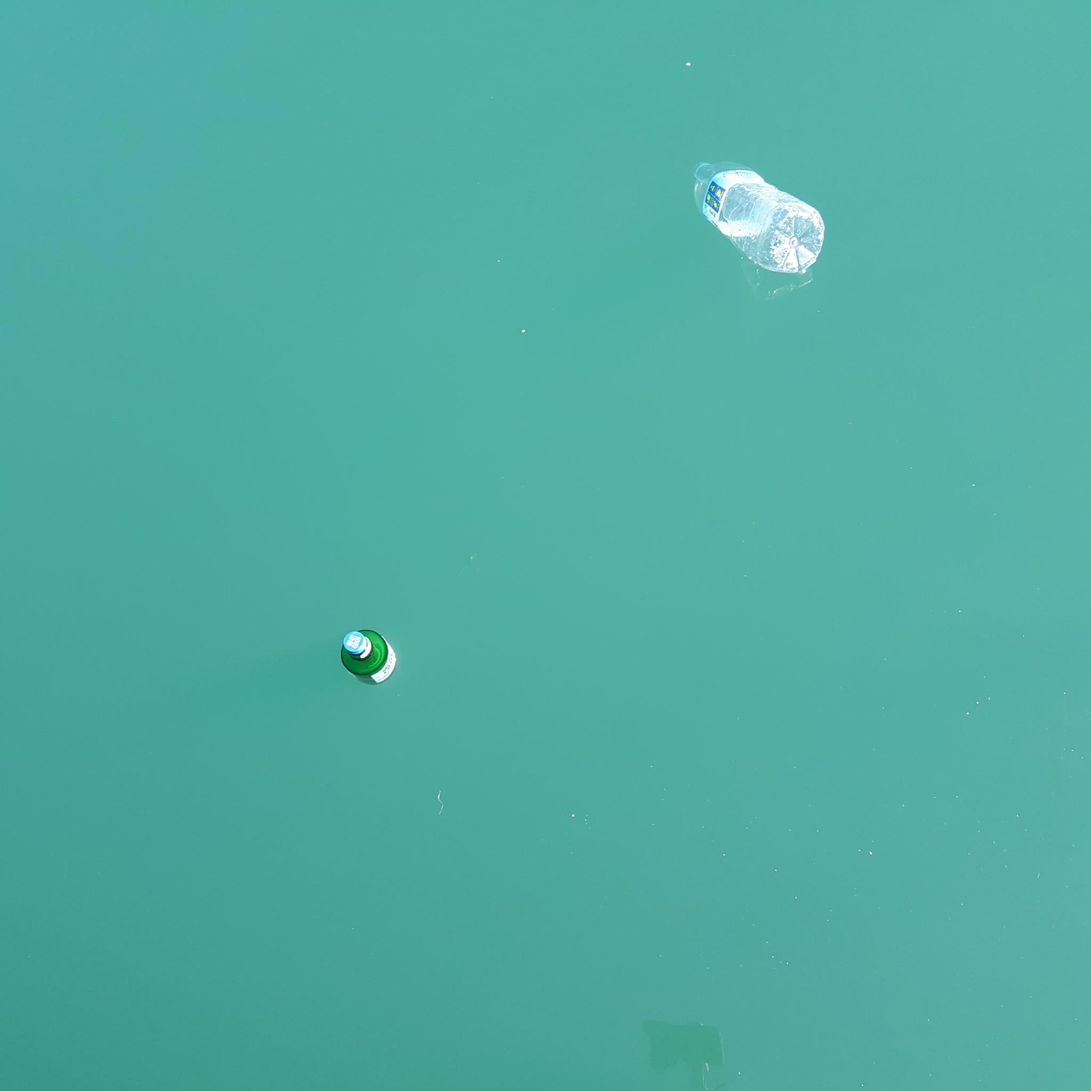sampah_terapung: (694, 161, 826, 275), (341, 630, 397, 686)
